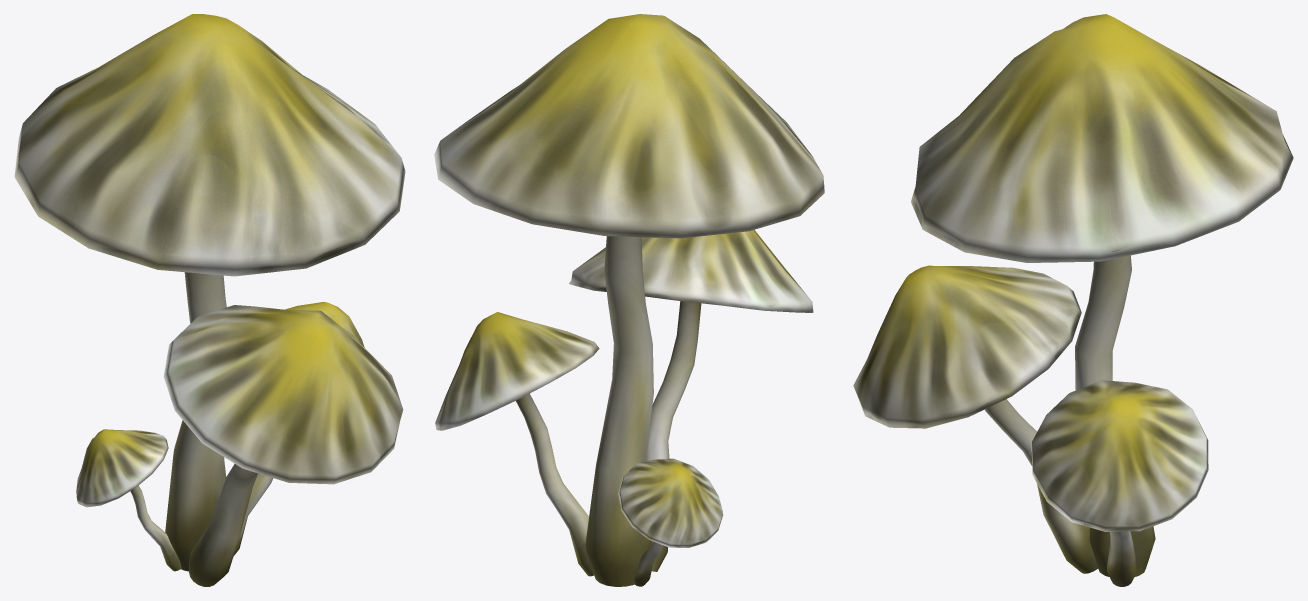
Rendered from Mushrooms.FBX.
The picture shows the model from 3 angles, left to right: view 1: azimuth 30°, elevation 25°; view 2: azimuth 150°, elevation 25°; view 3: azimuth 270°, elevation 25°; orthographic projection.
Visible parts, largest first — view 1: MushroomGroup; view 2: MushroomGroup; view 3: MushroomGroup.
Boxes of the visible parts, <box> form: MushroomGroup: <box>14,14,405,586</box>; MushroomGroup: <box>434,14,824,586</box>; MushroomGroup: <box>853,14,1293,586</box>.
Size of the model in its own units: 49.76 by 78.22 by 56.46.
